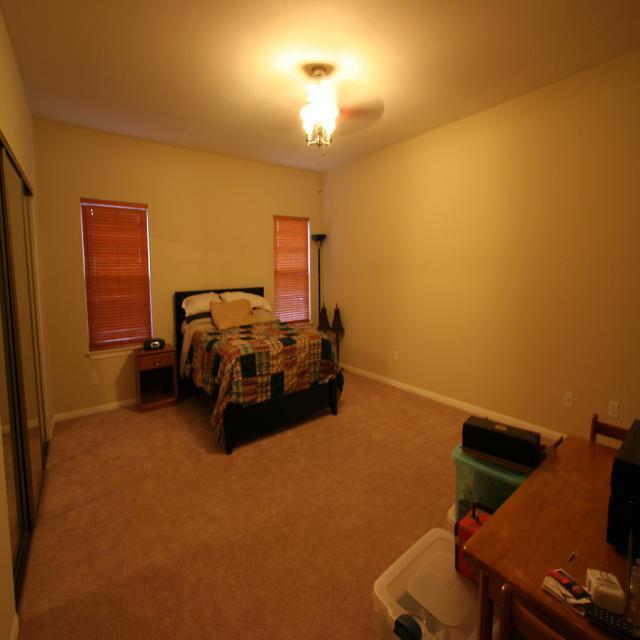fan_on: (261, 73, 384, 139)
